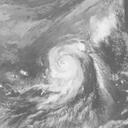cyclone: (49, 44, 84, 91)
